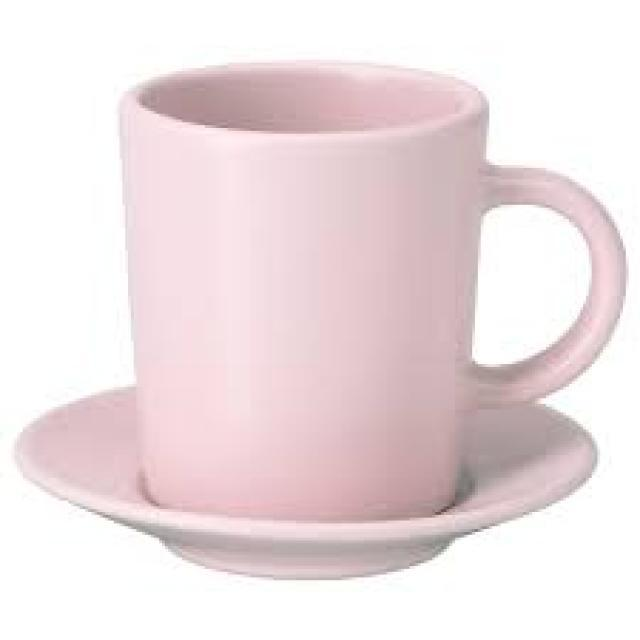taza: (118, 57, 630, 523)
